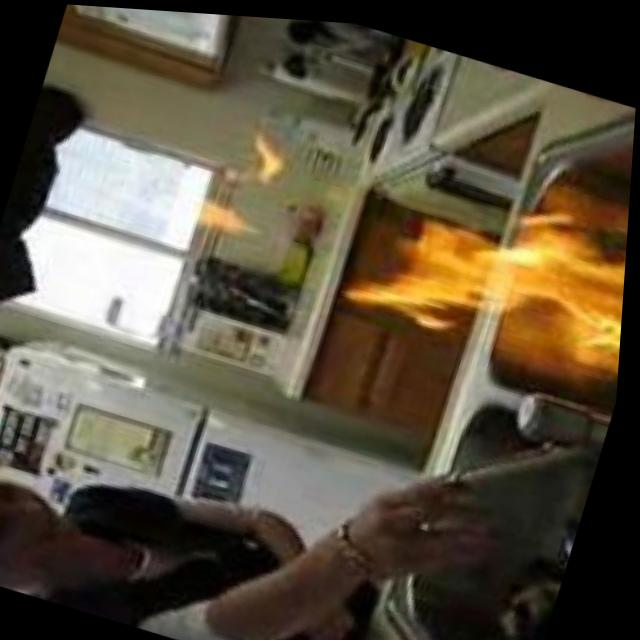Fire: (334, 147, 633, 389), (182, 110, 305, 261)
